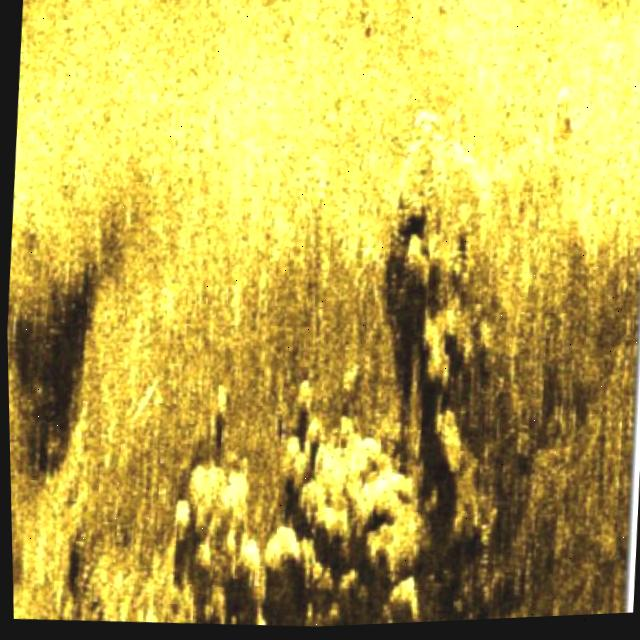bedrock group: (165, 405, 429, 634)
